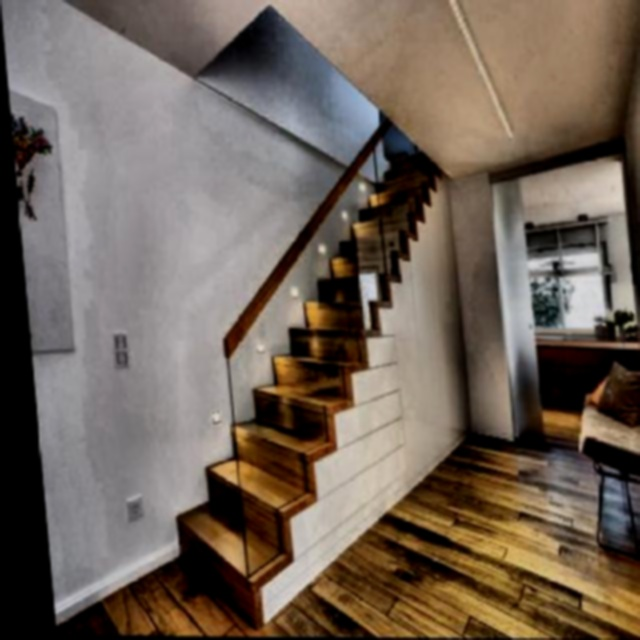stair: (142, 174, 463, 537)
